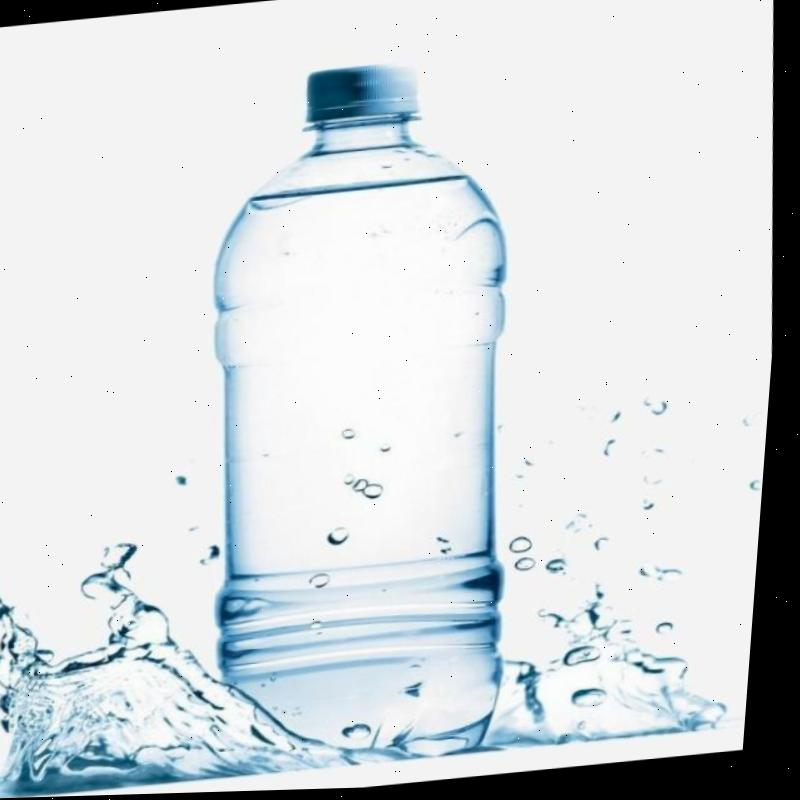botella: (170, 56, 554, 783)
